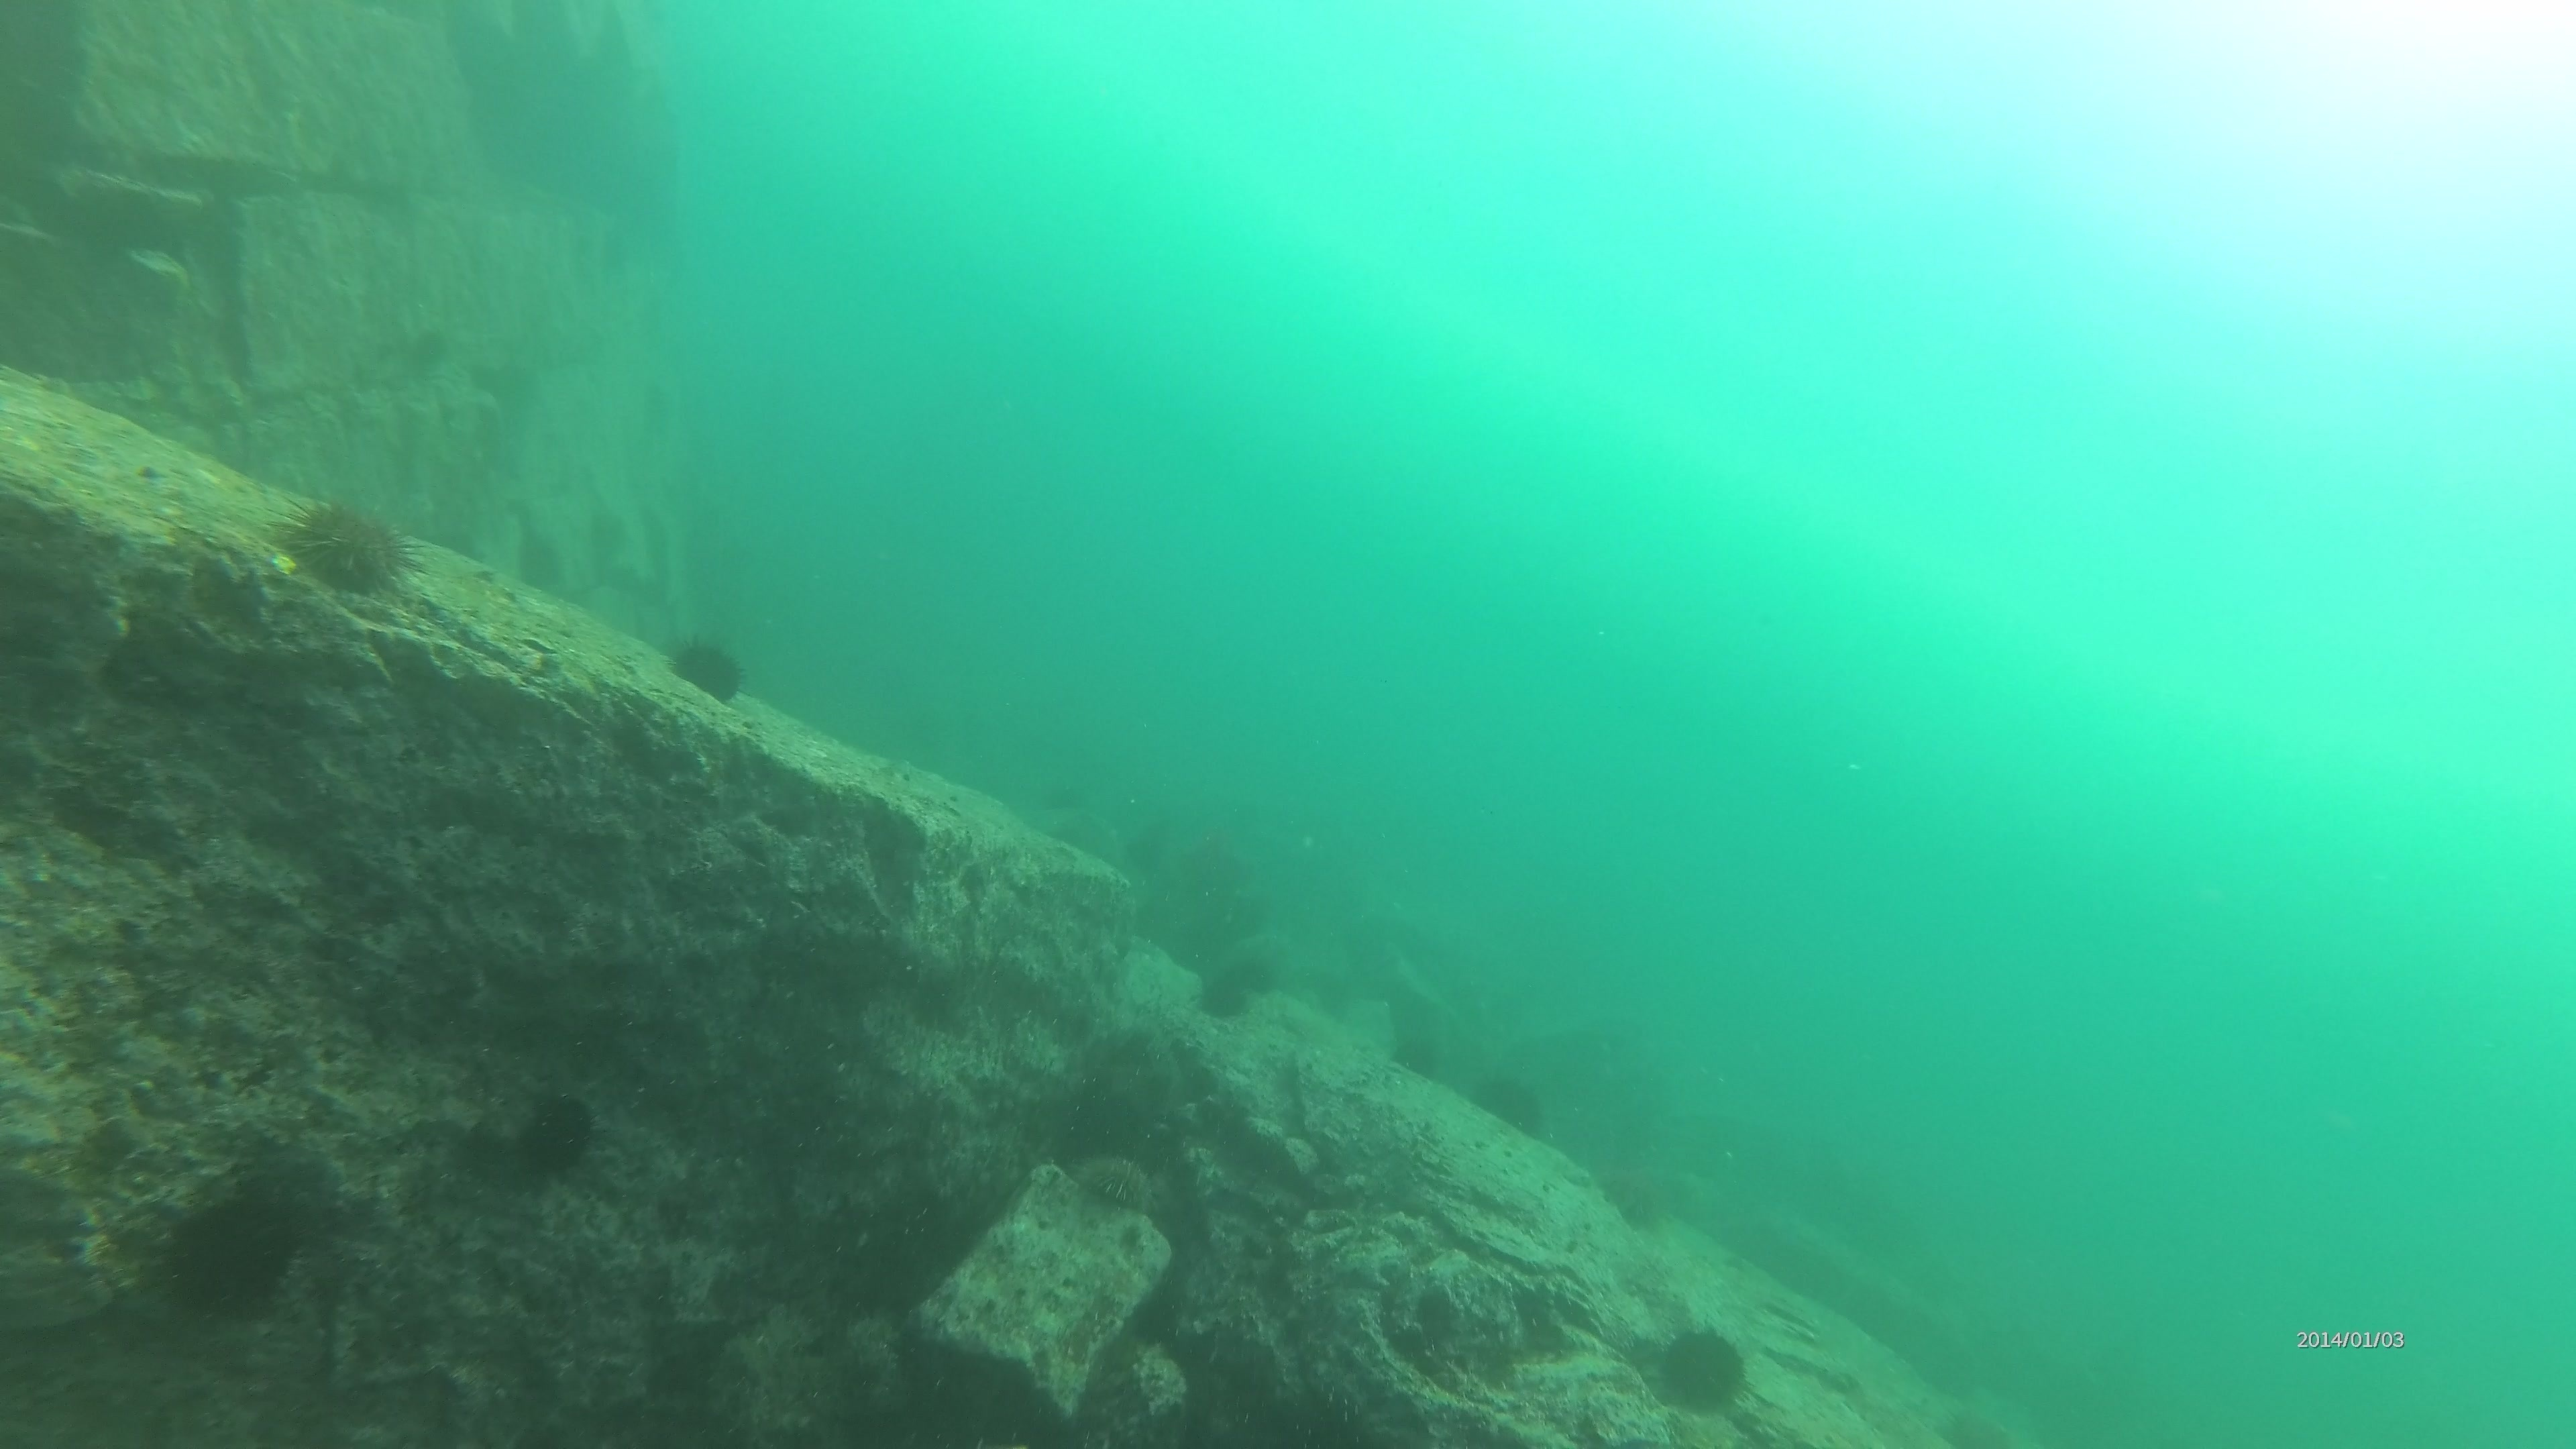echinus: (152, 1185, 306, 1325), (272, 488, 419, 605), (1642, 1318, 1760, 1421), (504, 1081, 607, 1184), (660, 628, 754, 708), (1189, 947, 1276, 1026), (1465, 1063, 1553, 1141)
